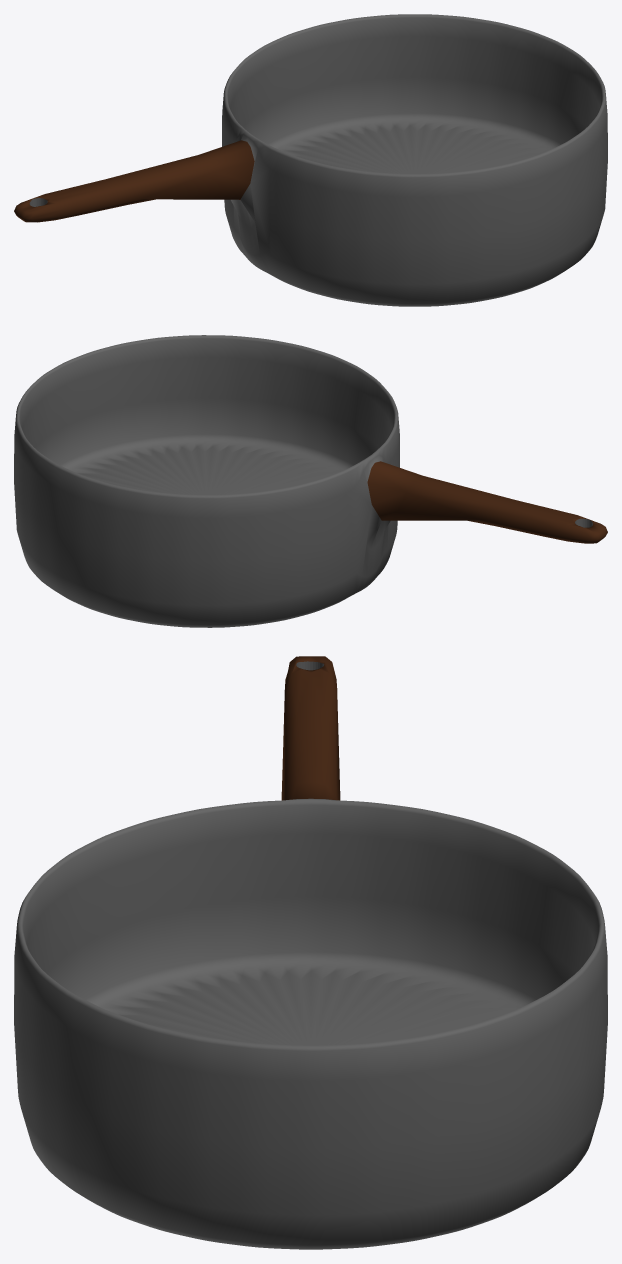
The picture shows the model from 3 angles, top to bottom: view 1: azimuth 30°, elevation 25°; view 2: azimuth 150°, elevation 25°; view 3: azimuth 270°, elevation 25°; orthographic projection. The views are drawn at different scales.
Visible parts, largest first — view 1: Pan; view 2: Pan; view 3: Pan.
Part boxes in pixels (x1,y1,x2,y2): Pan: [14, 14, 607, 306]; Pan: [14, 335, 607, 627]; Pan: [14, 656, 607, 1249].
Bounding box in the file's own units: 0.7793 × 0.1904 × 0.4614.
